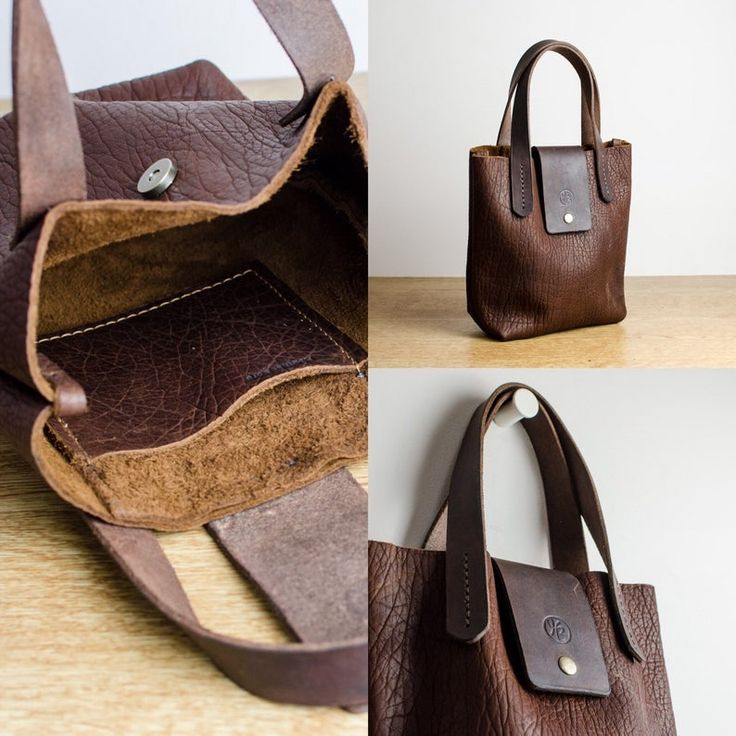cuero: (1, 1, 679, 733)
